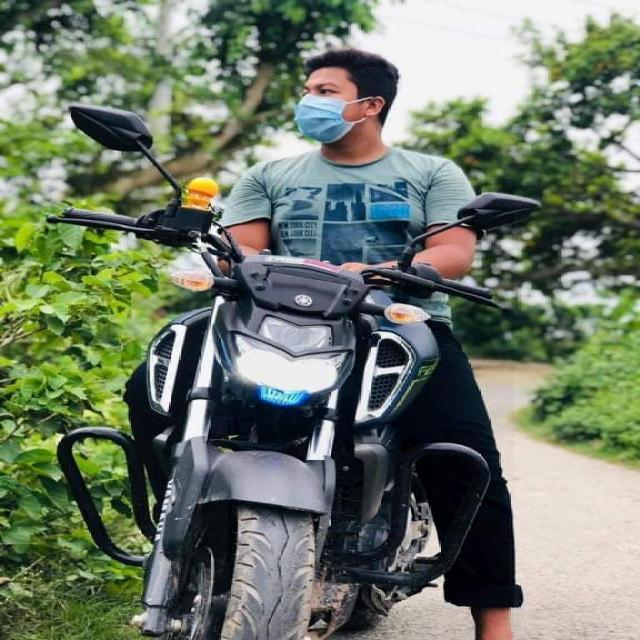Bike: (228, 179, 514, 640)
